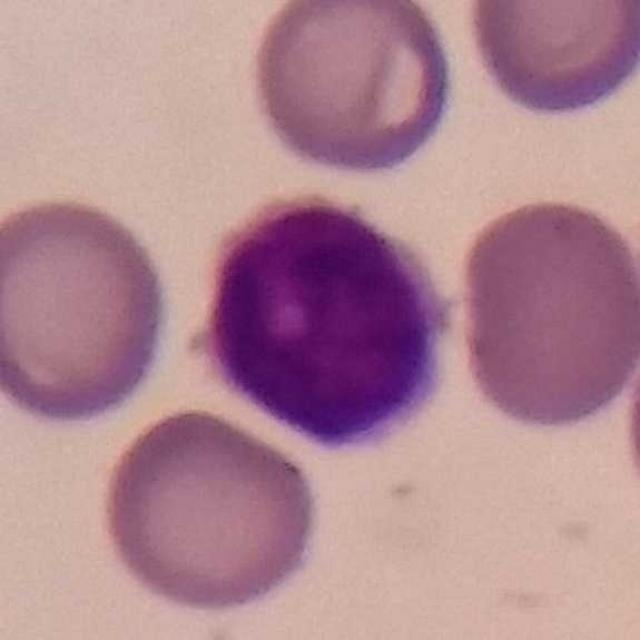Lymphocyte: (188, 184, 463, 458)
RBC: (94, 402, 326, 616), (451, 190, 640, 437), (0, 192, 177, 430), (242, 0, 458, 181), (461, 1, 640, 124)
